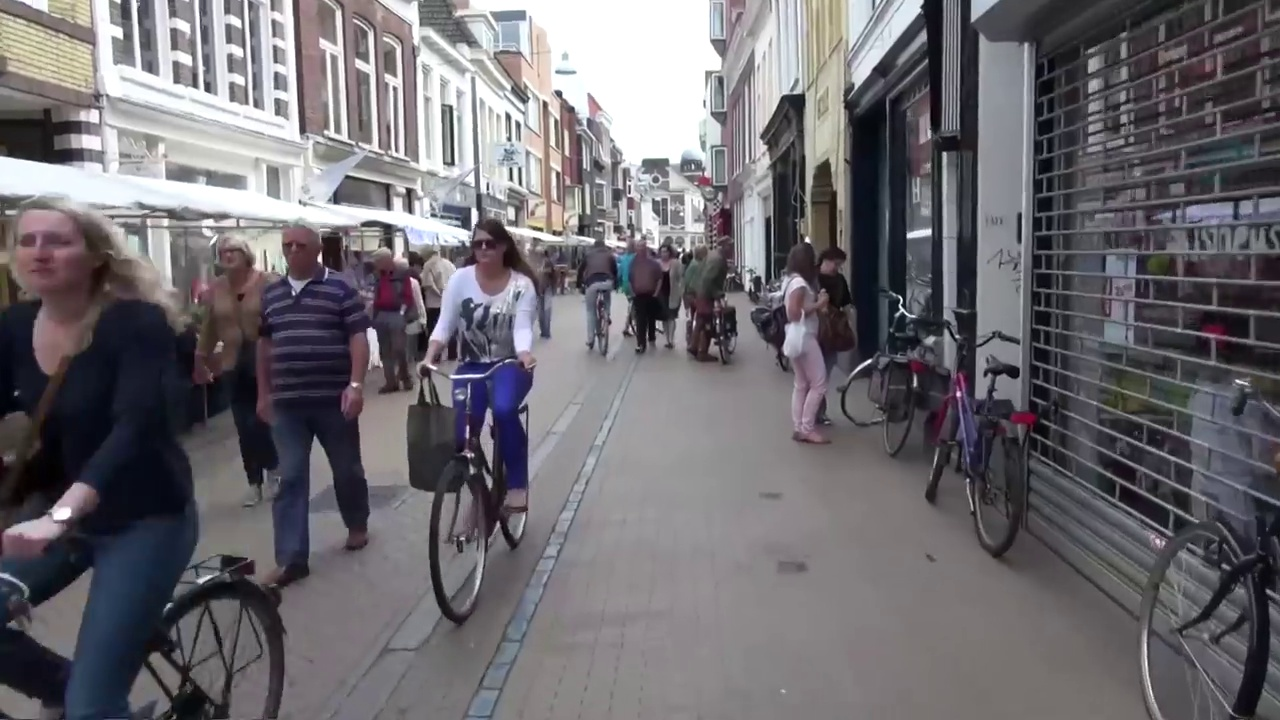cyclist_back: (569, 229, 623, 364)
cyclist_front: (410, 219, 550, 614)
